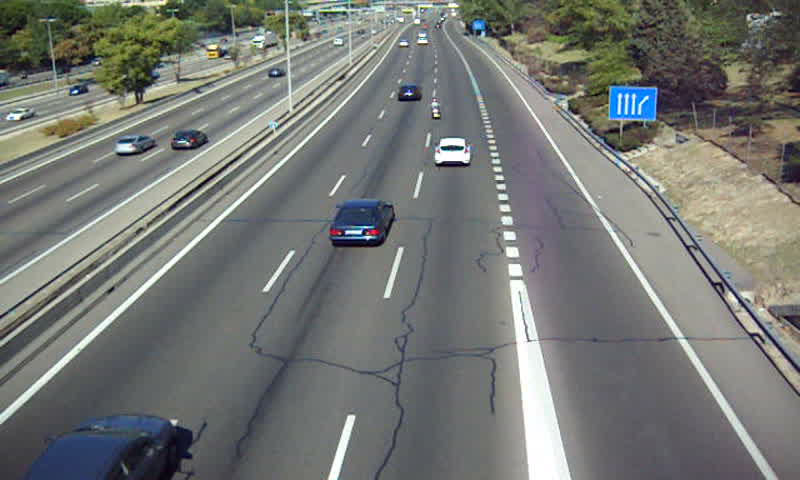car: (328, 199, 395, 247), (435, 137, 472, 165), (398, 85, 422, 102)
motorcycle: (428, 99, 443, 123)
